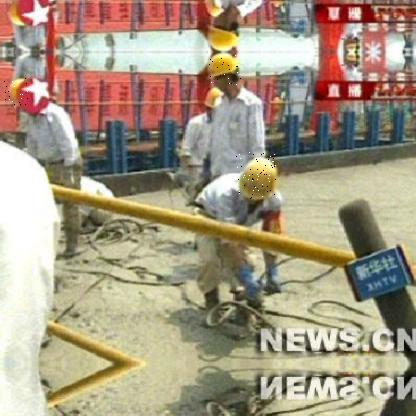safetyhelmet: (236, 152, 278, 200), (204, 53, 243, 86), (4, 76, 29, 108)
